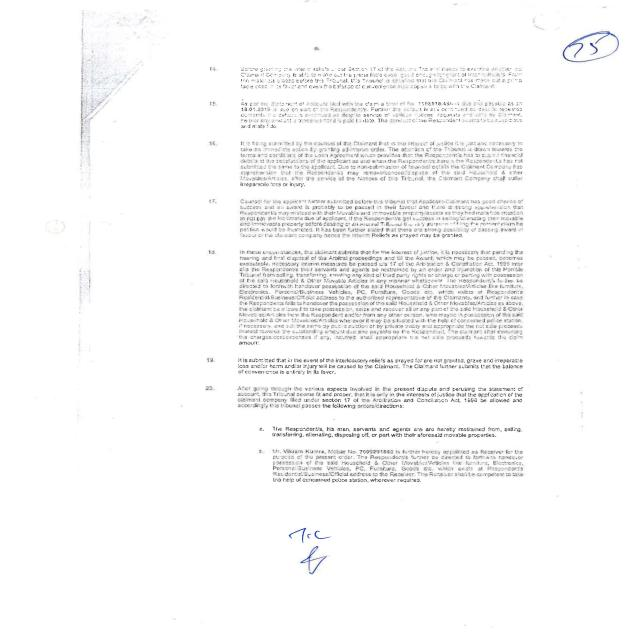page-number: (529, 0, 640, 91)
